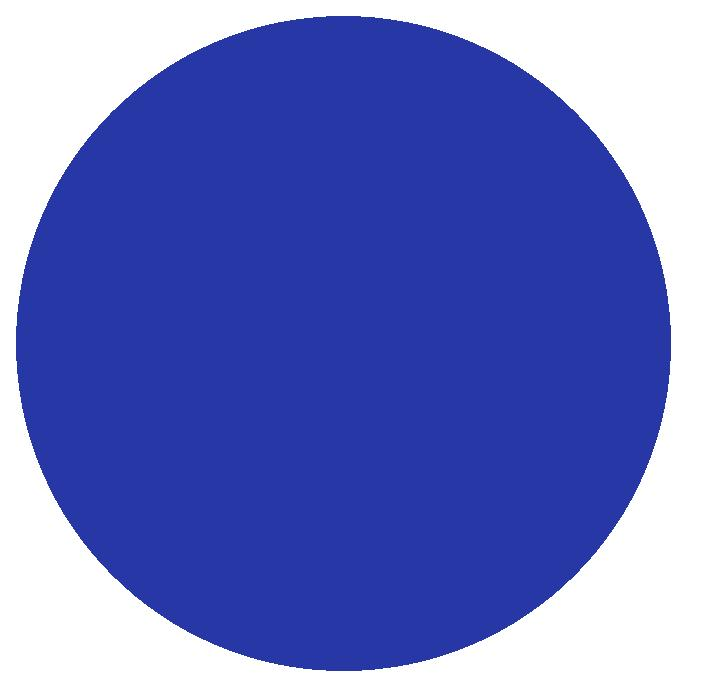blue_circle: (9, 12, 687, 688)
